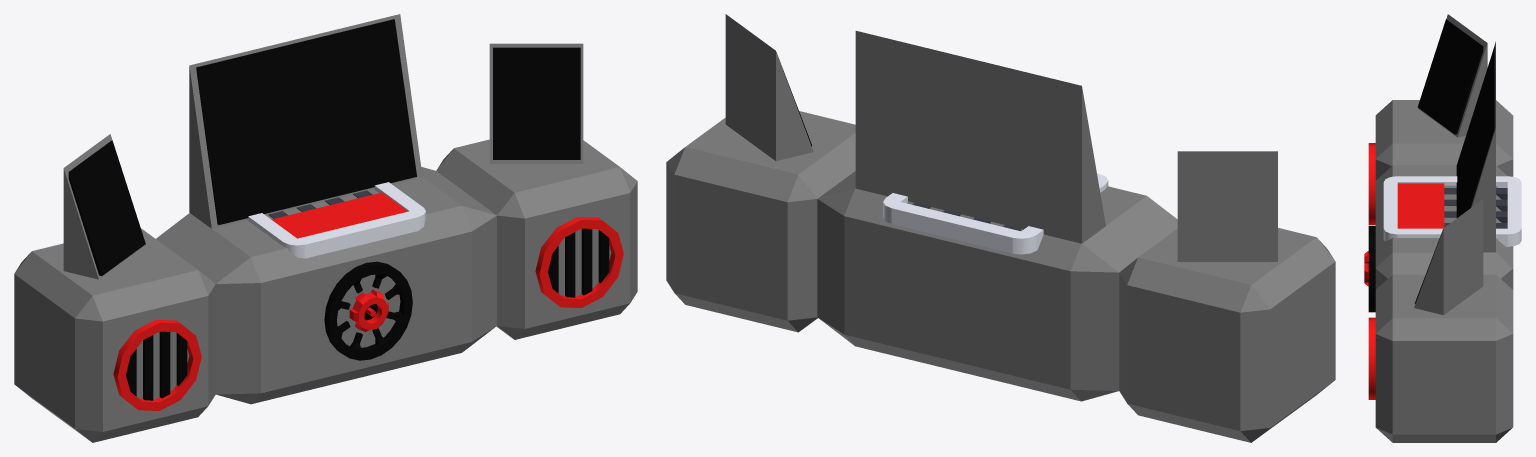
File: Pilot_Terminal.fbx
The picture shows the model from 3 angles, left to right: view 1: azimuth 30°, elevation 25°; view 2: azimuth 150°, elevation 25°; view 3: azimuth 270°, elevation 25°; orthographic projection. The views are drawn at different scales.
Parts seen in each view (by area): view 1: block_bevel (×3), wedge (×6), grate_round (×2), grate_square, ring_innerExtended, block, cog_smallEdgeClosed; view 2: block_bevel (×3), wedge (×3), grate_square; view 3: block_bevel (×3), wedge (×5), grate_square, block, grate_round (×2), ring_innerExtended.
Boxes of the visible parts, box(x1,y1,x2,y2) form: block_bevel (×3): box(14, 139, 637, 442); wedge (×6): box(63, 14, 583, 279); grate_round (×2): box(113, 217, 623, 410); grate_square: box(247, 182, 425, 258); ring_innerExtended: box(324, 261, 412, 360); block: box(271, 192, 407, 238); cog_smallEdgeClosed: box(349, 289, 388, 331); block_bevel (×3): box(666, 111, 1335, 442); wedge (×3): box(725, 14, 1277, 261); grate_square: box(883, 173, 1108, 254); block_bevel (×3): box(1375, 100, 1513, 442); wedge (×5): box(1414, 14, 1495, 315); grate_square: box(1383, 176, 1521, 246); block: box(1397, 183, 1444, 228); grate_round (×2): box(1368, 143, 1375, 399); ring_innerExtended: box(1368, 226, 1375, 312).
Bounding box in the file's own units: 40 × 20 × 11.4.
